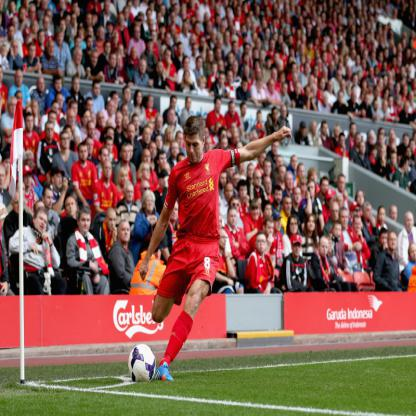corner kick: (11, 74, 226, 398)
